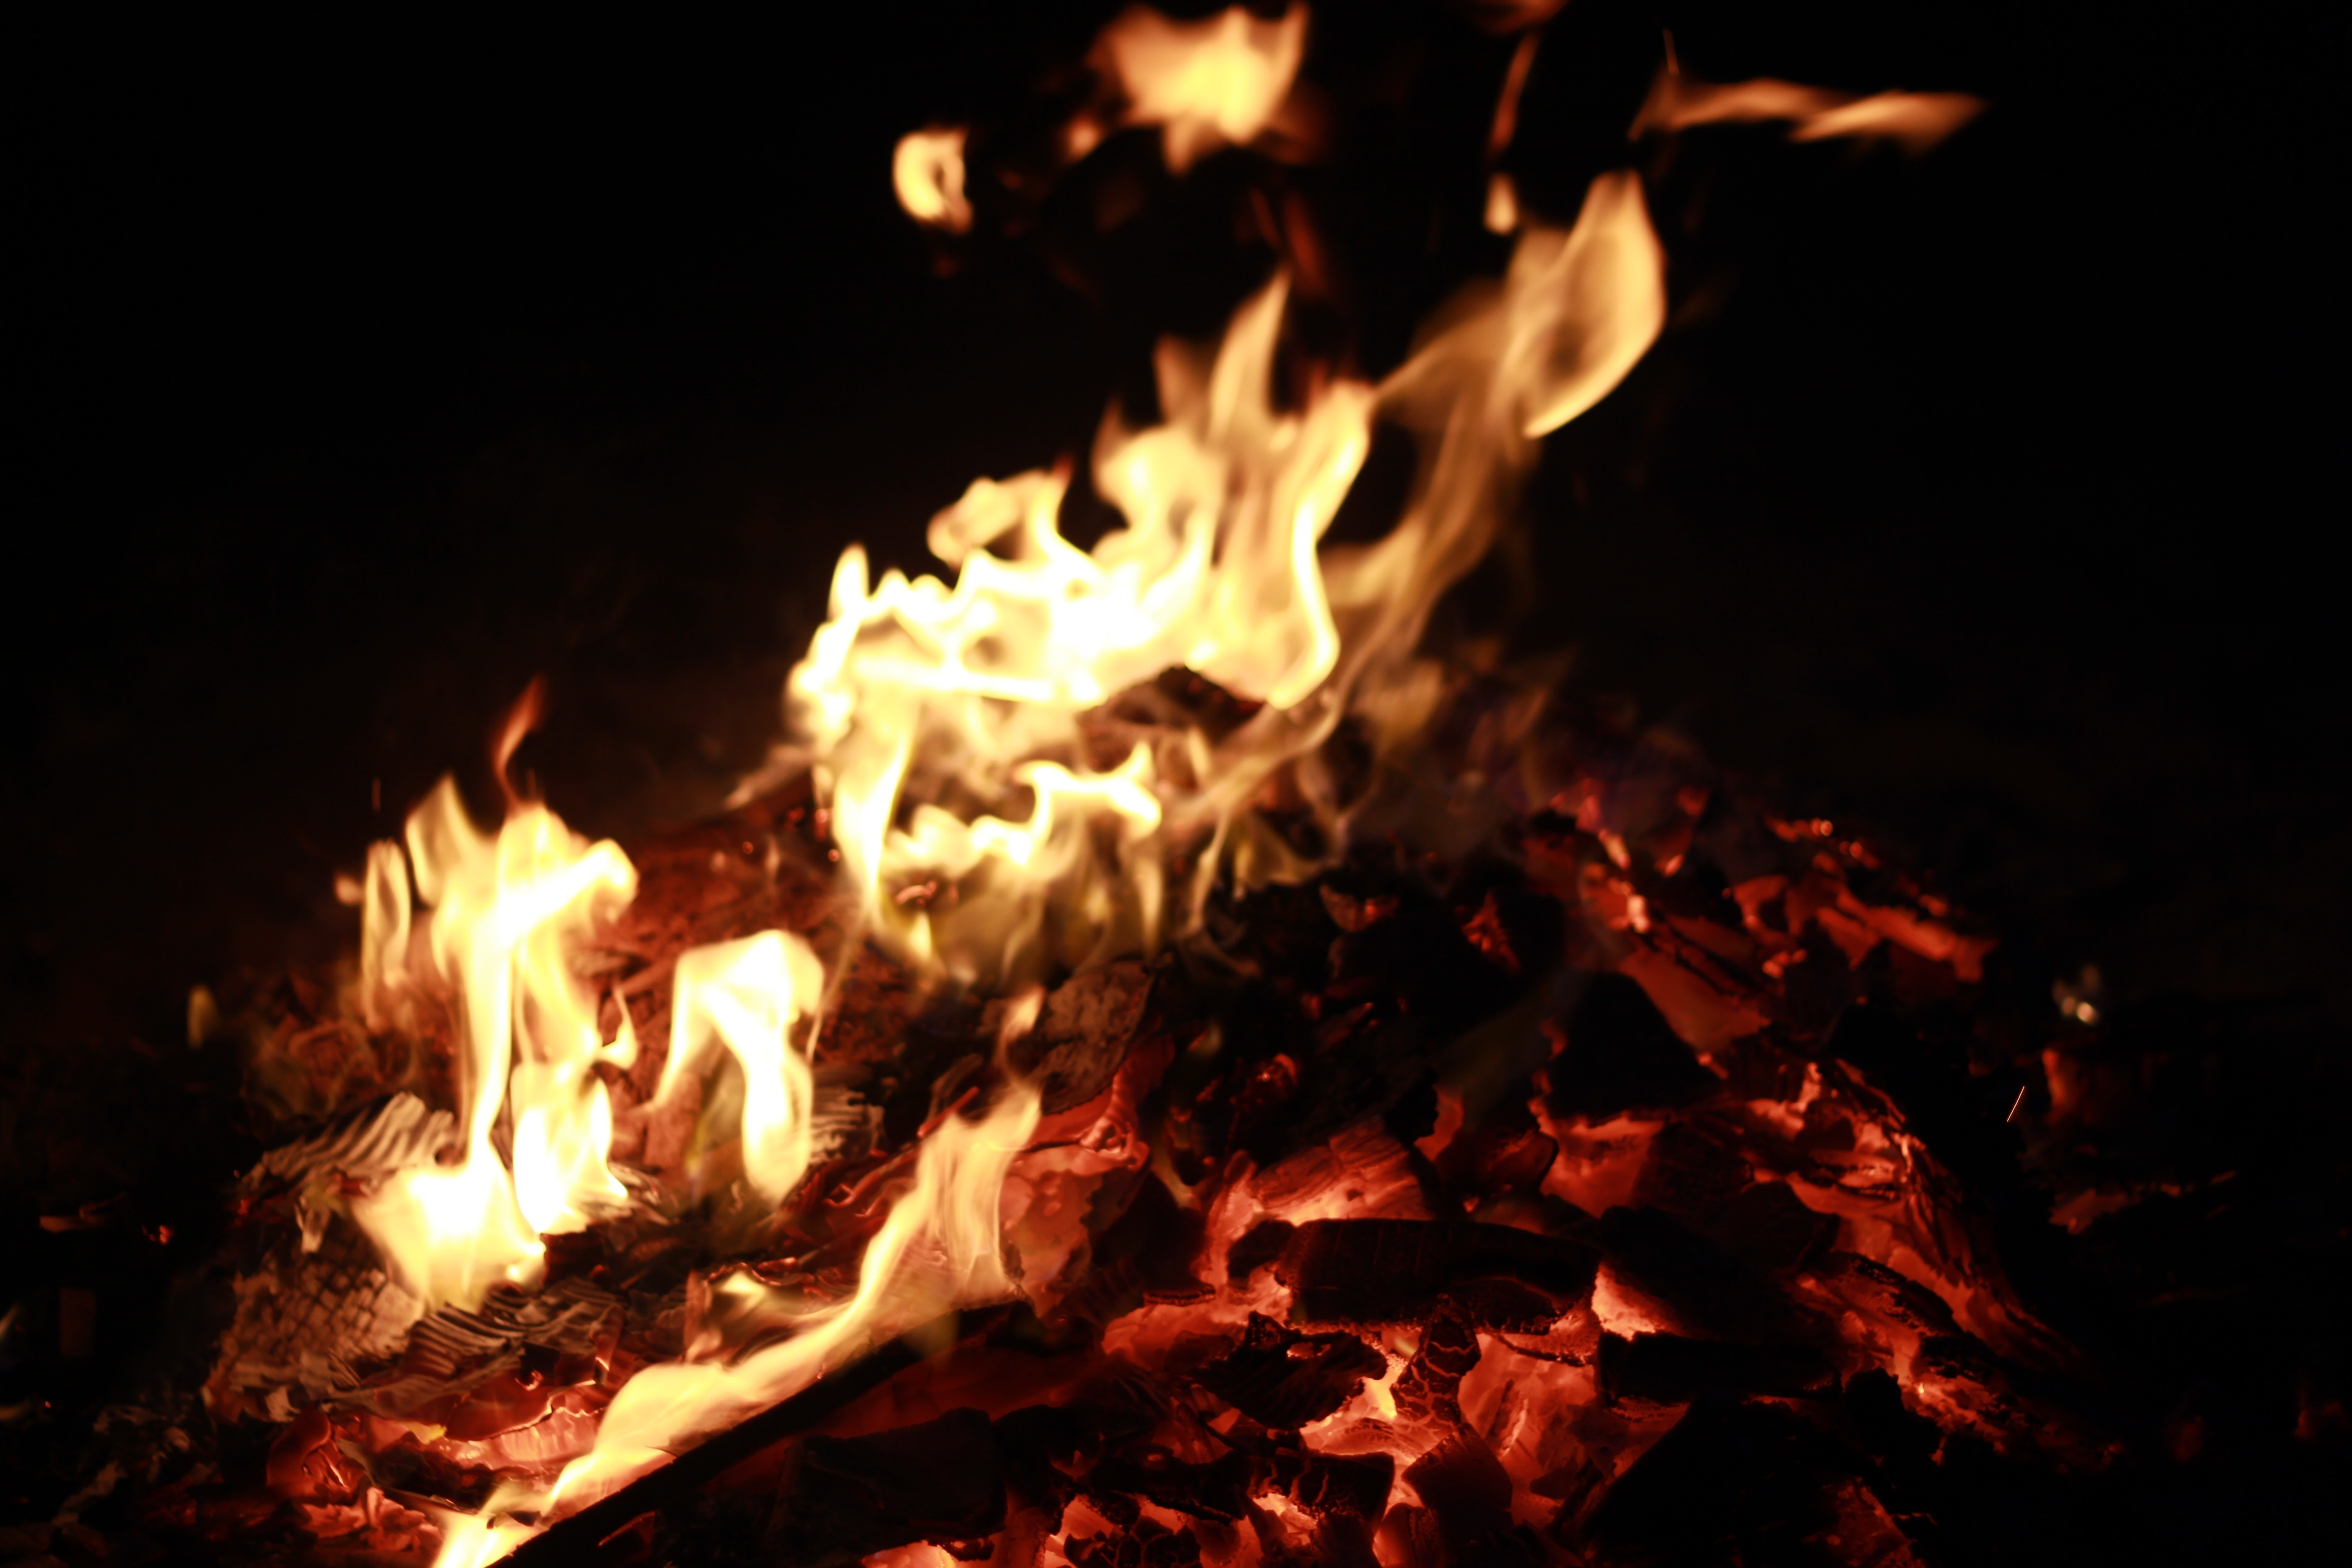fire: (201, 17, 1811, 1421)
